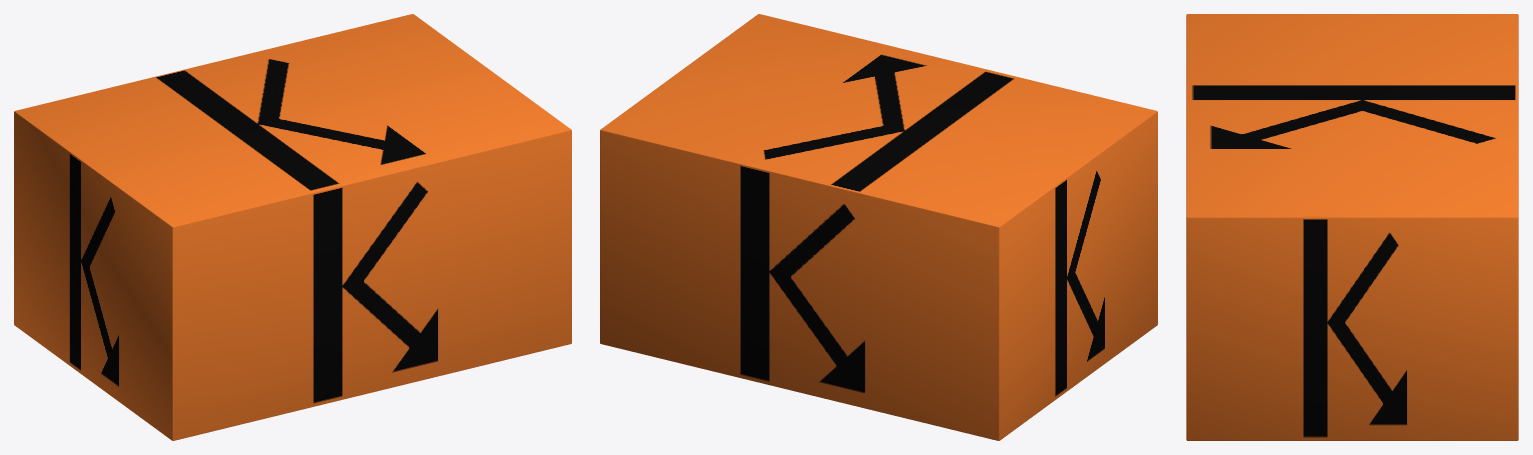
Rendered from Richochet_exported.FBX.
3 views of the same model, side by side, from view 1: azimuth 30°, elevation 25°; view 2: azimuth 150°, elevation 25°; view 3: azimuth 270°, elevation 25° (orthographic). The views are drawn at different scales.
Visible parts, largest first — view 1: Box001; view 2: Box001; view 3: Box001.
Part boxes in pixels (box(x1,y1,x2,y2)): Box001: box(14, 14, 571, 440); Box001: box(600, 14, 1157, 440); Box001: box(1186, 14, 1518, 440).
Bounding box in the file's own units: 29.91 × 15.33 × 20.6.
Materials: 1 (1 with a texture image).
